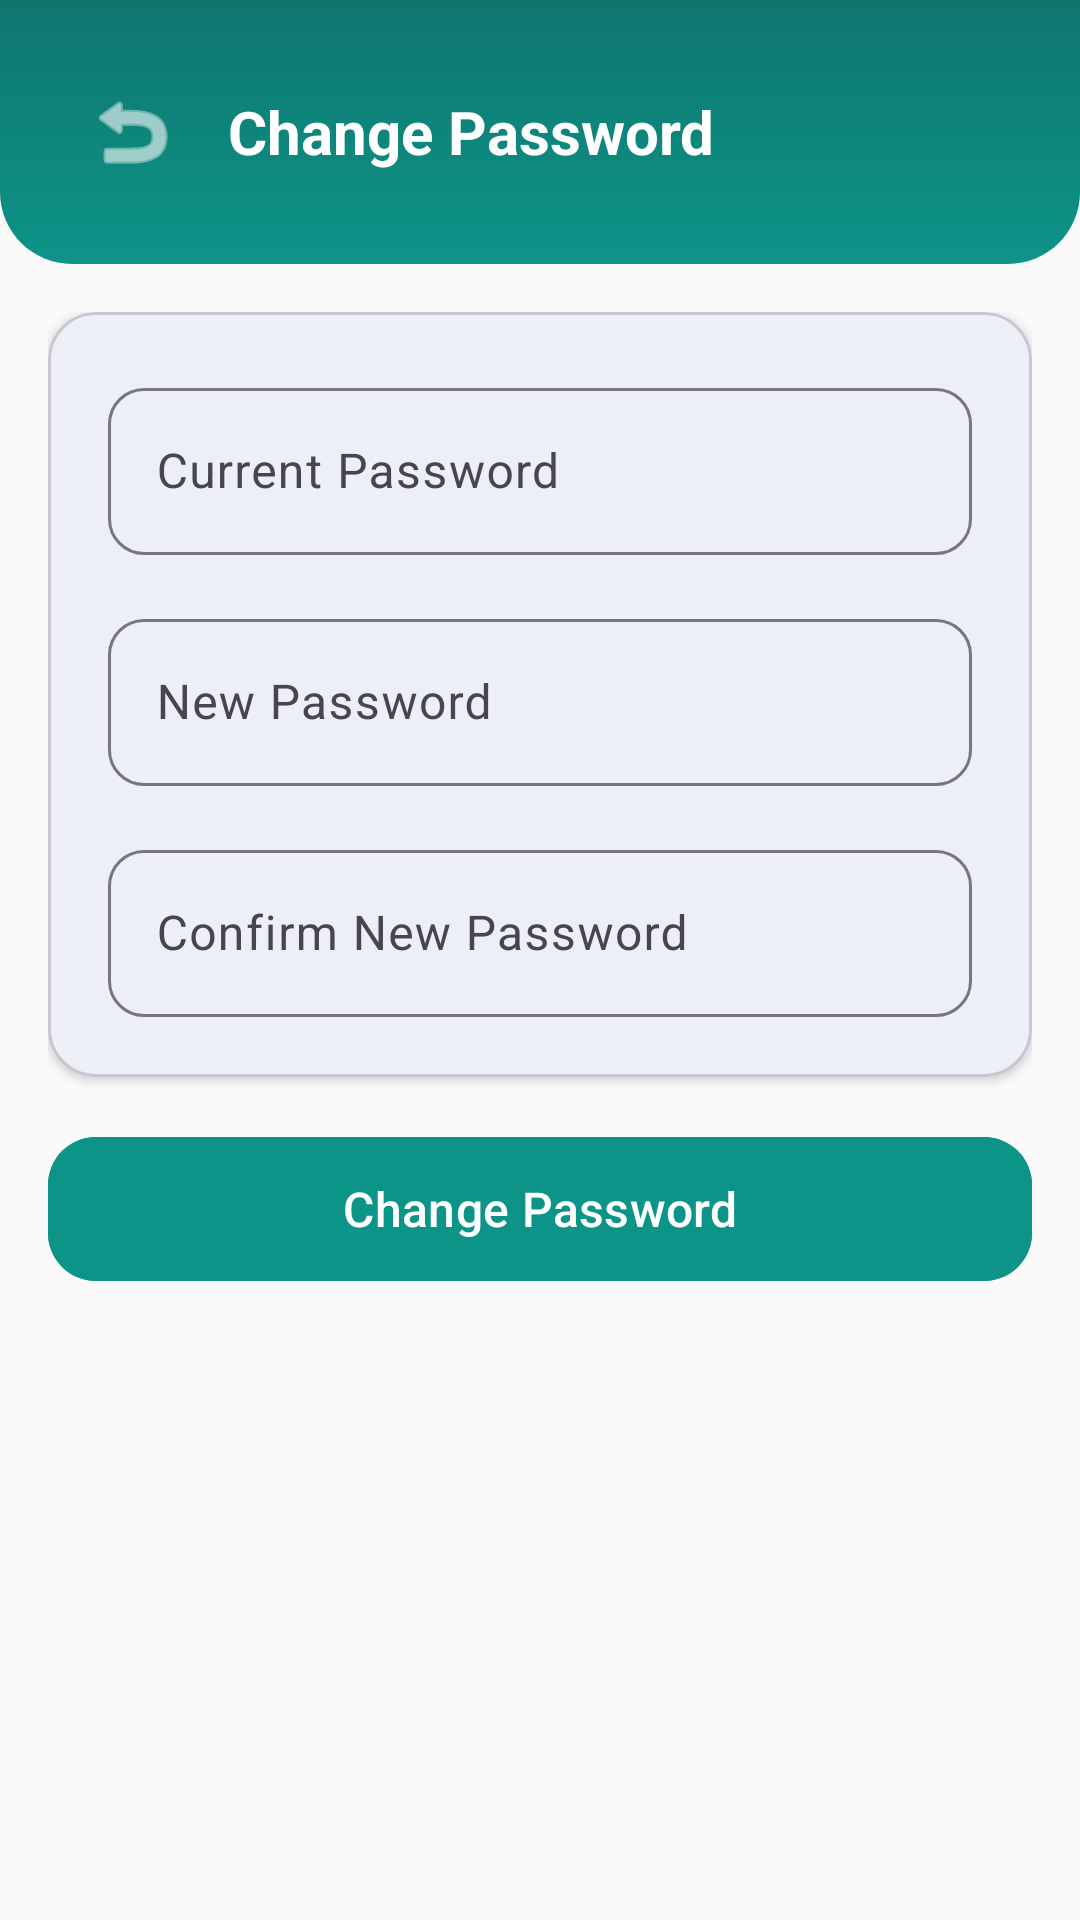

Icons on this 1080w x 1920h Android screen, each with the point to tap as (x,y):
revert: (133,132)
